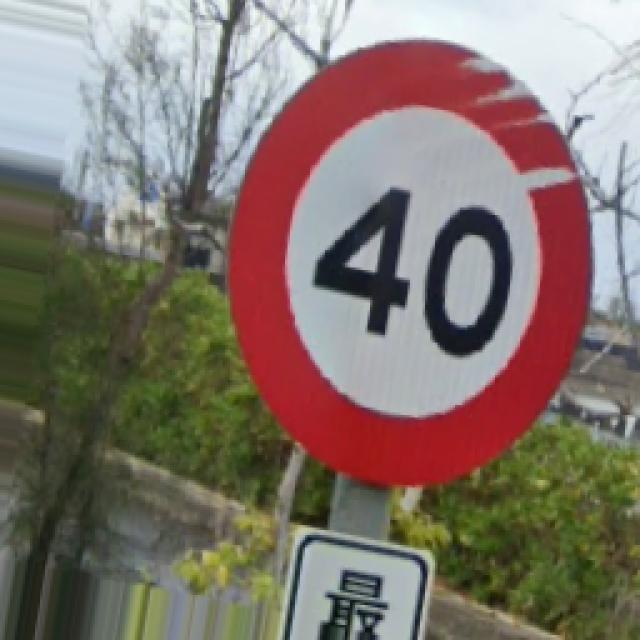Speed Limit -40-: (230, 40, 588, 482)
